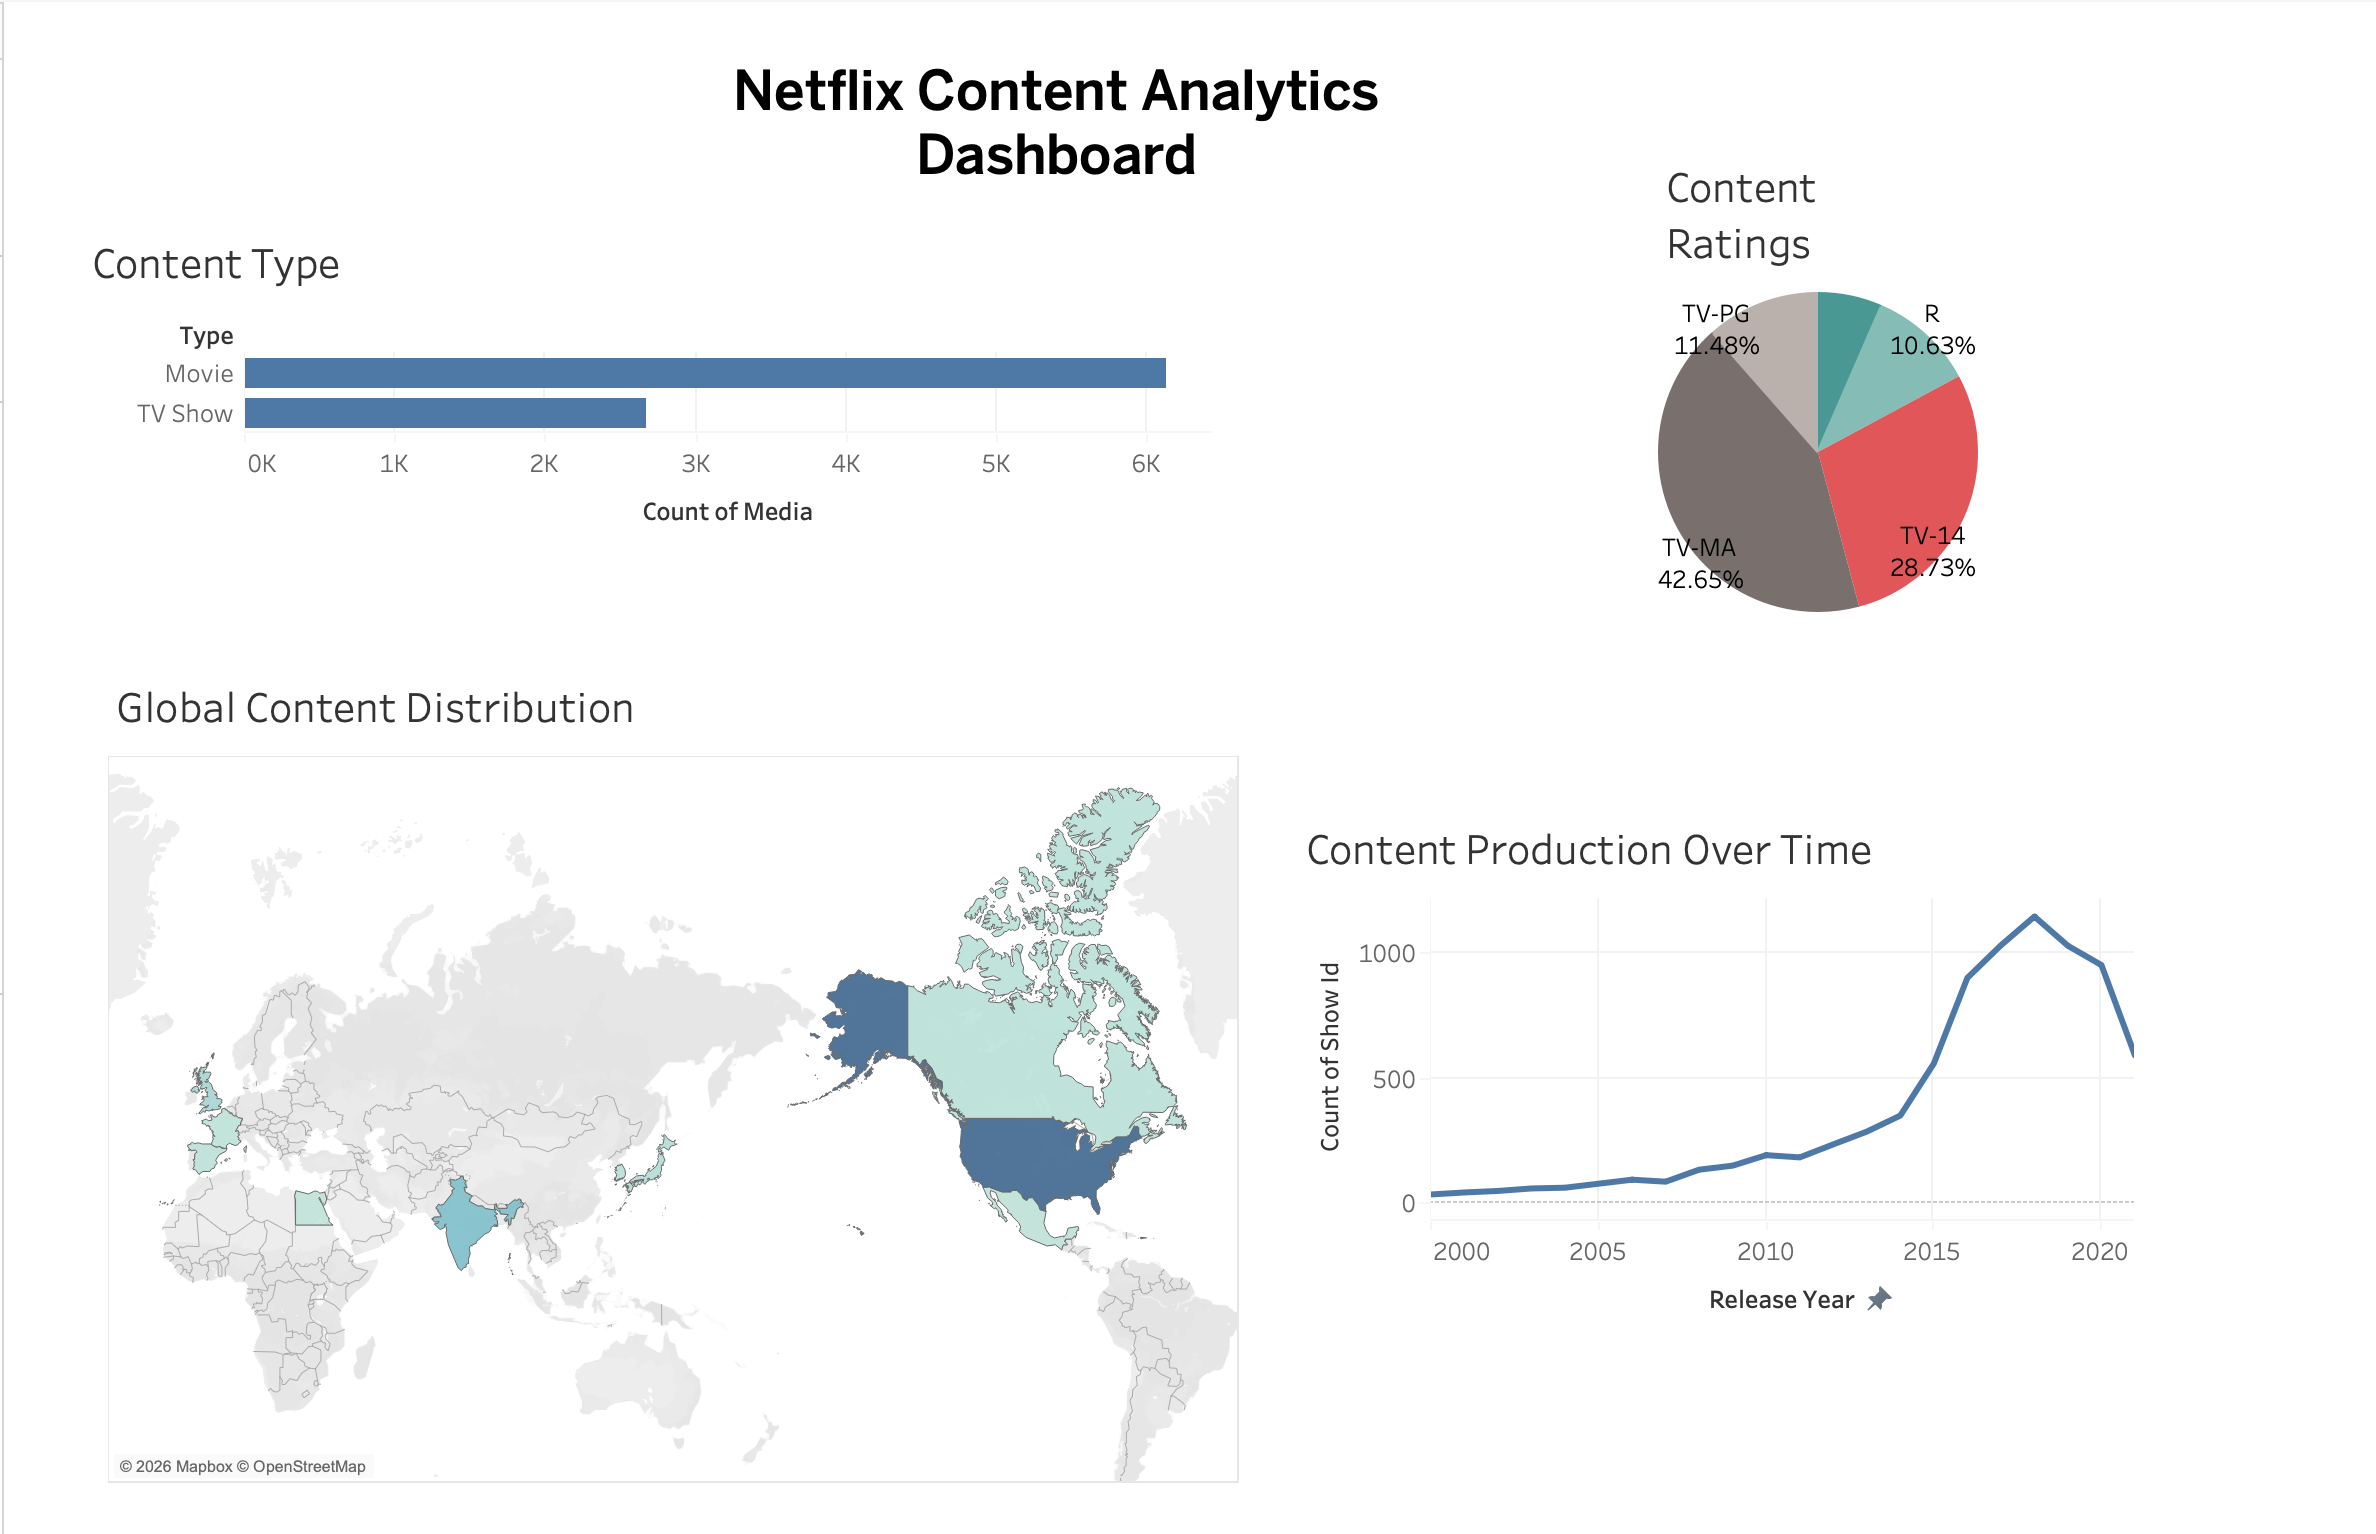

This screenshot's page, from the dashboard's own definition file:
{"tool":"tableau","page":{"name":"Dashboard 1","canvas":[1200,800],"ordinal":0},"visuals":[{"type":"text","box":[323,24.4,407.4,75.1]},{"type":"worksheet","title":"Distribution of Netflix Content Ratings","mark":"Pie","box":[827,74,194,299]},{"type":"worksheet","title":"Content Type Distribution","mark":"Automatic","rows":["type"],"cols":["show_id"],"box":[40,112,564,203]},{"type":"worksheet","title":"Global Content Distribution","mark":"Automatic","box":[52,334,566,407]},{"type":"worksheet","title":"Content Production Over Time","mark":"Line","rows":["show_id"],"cols":["release_year"],"box":[647,405,418,259]}]}

Visuals, with their boxes on the page's 1200x800 design canvas (x1, y1, x2, y2). These are canvas units, not pixel positions in the 2376x1534 screenshot, which may show the page scaled, cropped or inside an application window:
text: {"x1": 323, "y1": 24, "x2": 730, "y2": 100}
"Distribution of Netflix Content Ratings" worksheet (Pie marks): {"x1": 827, "y1": 74, "x2": 1021, "y2": 373}
"Content Type Distribution" worksheet: {"x1": 40, "y1": 112, "x2": 604, "y2": 315}
"Global Content Distribution" worksheet: {"x1": 52, "y1": 334, "x2": 618, "y2": 741}
"Content Production Over Time" worksheet (Line marks): {"x1": 647, "y1": 405, "x2": 1065, "y2": 664}
